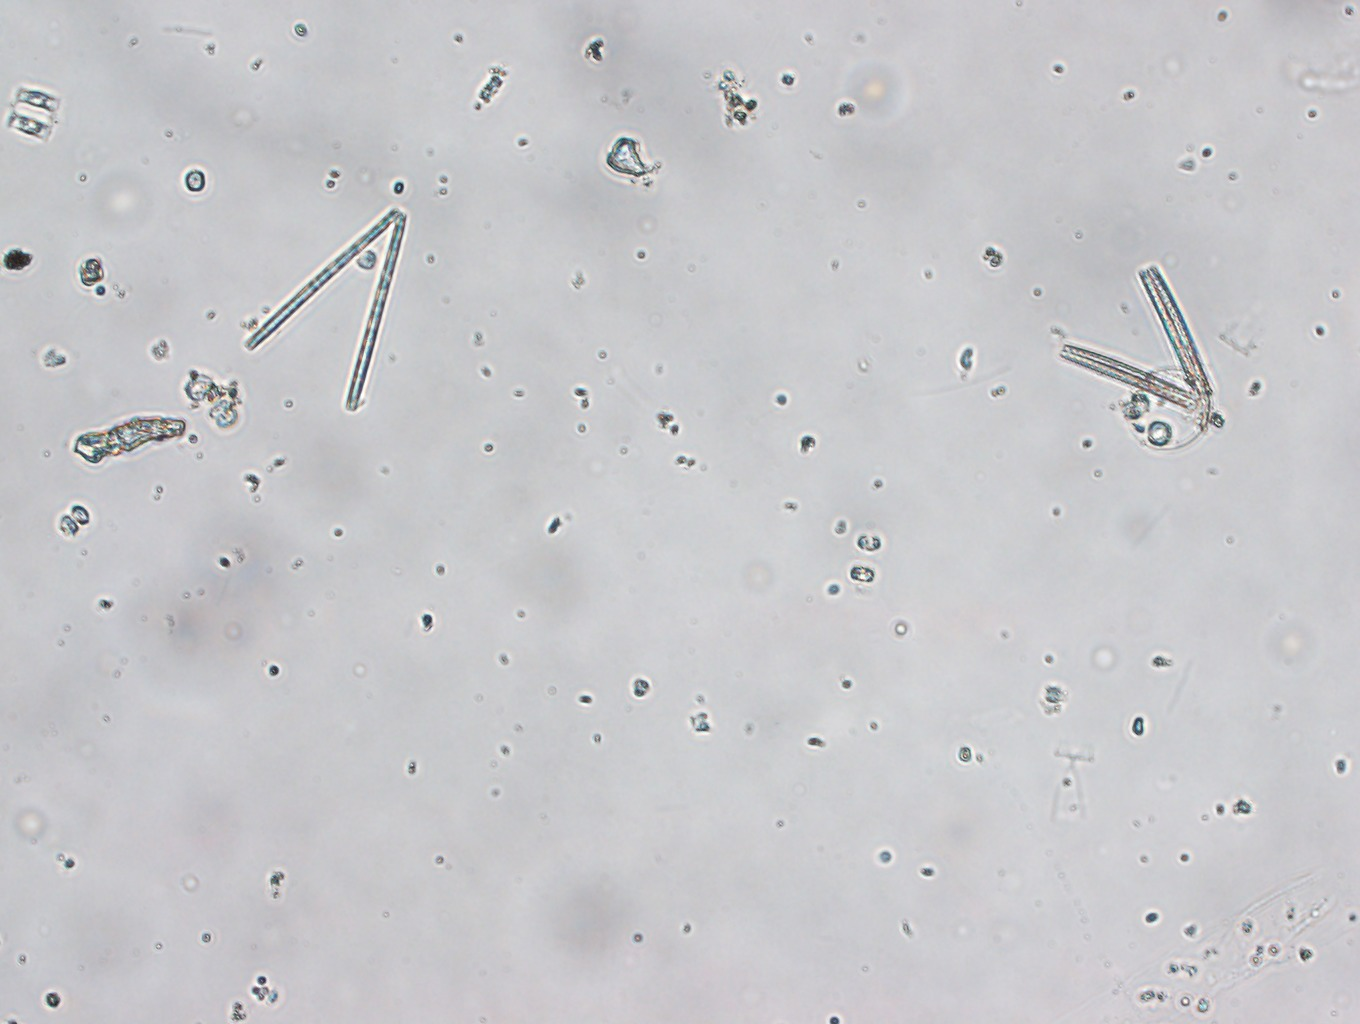thalassionema frauenfeldii: (235, 200, 418, 415), (1053, 258, 1237, 452)
